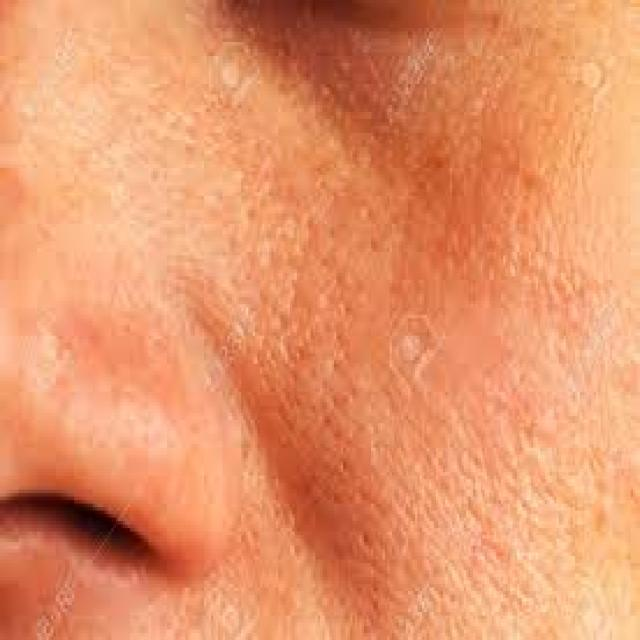oily: (36, 63, 640, 586)
pores: (77, 174, 461, 496)
